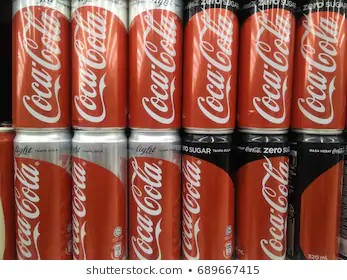nescafe-can: (12, 1, 72, 132), (13, 132, 71, 260), (71, 132, 127, 259), (73, 1, 128, 130), (130, 1, 184, 132), (128, 129, 181, 259)
nescafe-can-zero: (184, 1, 239, 132), (292, 1, 346, 132), (235, 135, 292, 259), (181, 133, 235, 259), (291, 136, 344, 264), (240, 1, 291, 134)
